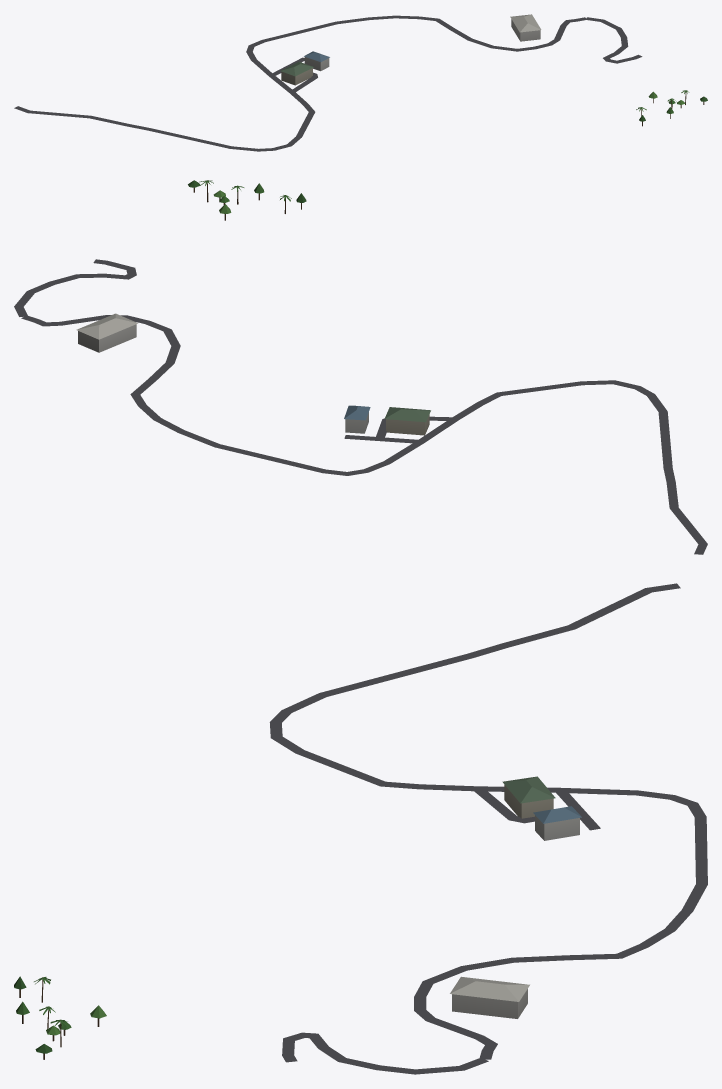
3 renders of one model, top to bottom at view 1: azimuth 30°, elevation 25°; view 2: azimuth 150°, elevation 25°; view 3: azimuth 270°, elevation 25°, orthographic. The views are drawn at different scales.
Visible parts, largest first — view 1: Roads_Minor__r2c-5, Buildings__r2c-5-col, Props_Foliage__r2c-5; view 2: Roads_Minor__r2c-5, Buildings__r2c-5-col; view 3: Roads_Minor__r2c-5, Buildings__r2c-5-col, Props_Foliage__r2c-5.
Part boxes in pixels (x1,y1,x2,y2): Roads_Minor__r2c-5: (14, 15, 642, 151); Buildings__r2c-5-col: (280, 14, 541, 85); Props_Foliage__r2c-5: (636, 90, 707, 121); Roads_Minor__r2c-5: (14, 259, 707, 554); Buildings__r2c-5-col: (76, 313, 430, 435); Roads_Minor__r2c-5: (269, 583, 707, 1074); Buildings__r2c-5-col: (450, 776, 581, 1018); Props_Foliage__r2c-5: (14, 976, 106, 1053).
Size of the model in its own units: 387 by 10.62 by 231.
